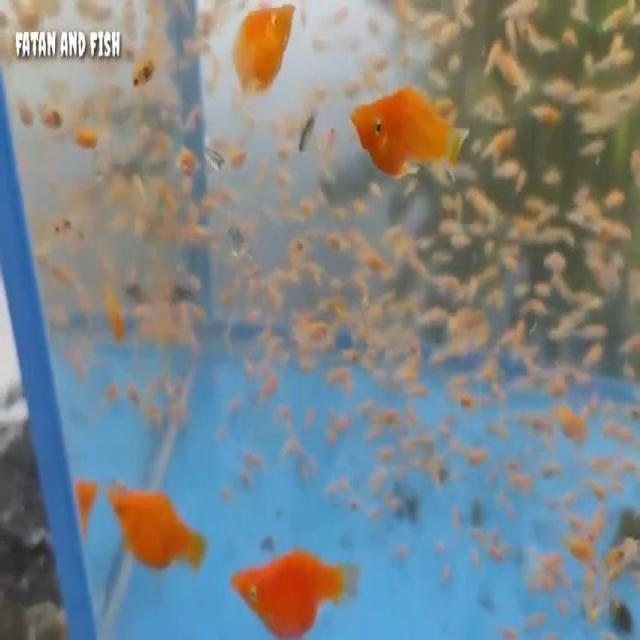PlatyFish: (342, 60, 472, 192), (223, 537, 365, 640), (98, 463, 208, 585), (227, 0, 309, 99)
